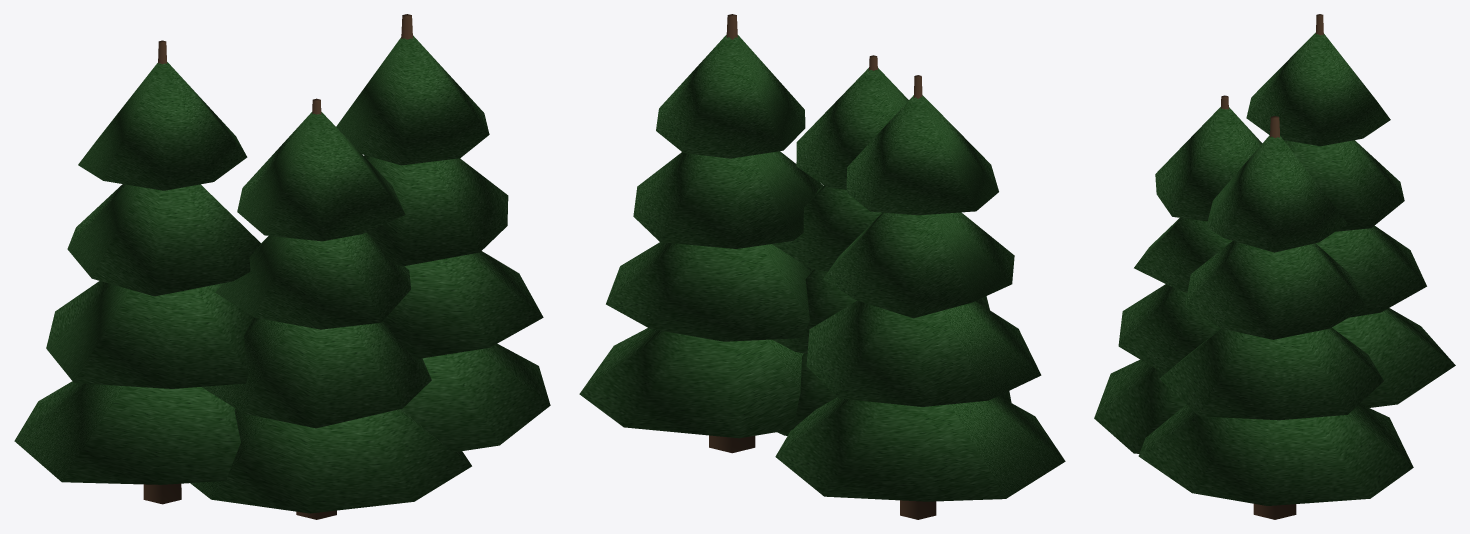
Rendered from resource_lumber_0.glb.
3 views of the same model, side by side, from view 1: azimuth 30°, elevation 25°; view 2: azimuth 150°, elevation 25°; view 3: azimuth 270°, elevation 25° (orthographic). The views are drawn at different scales.
Visible parts, largest first — view 1: resource_lumber_0; view 2: resource_lumber_0; view 3: resource_lumber_0.
Part boxes in pixels (bbox=[...]): resource_lumber_0: bbox=[14, 14, 550, 519]; resource_lumber_0: bbox=[579, 14, 1065, 519]; resource_lumber_0: bbox=[1094, 14, 1455, 519].
Size of the model in its own units: 6.93 by 6.32 by 5.19.
Materials: 2 (2 with a texture image).
